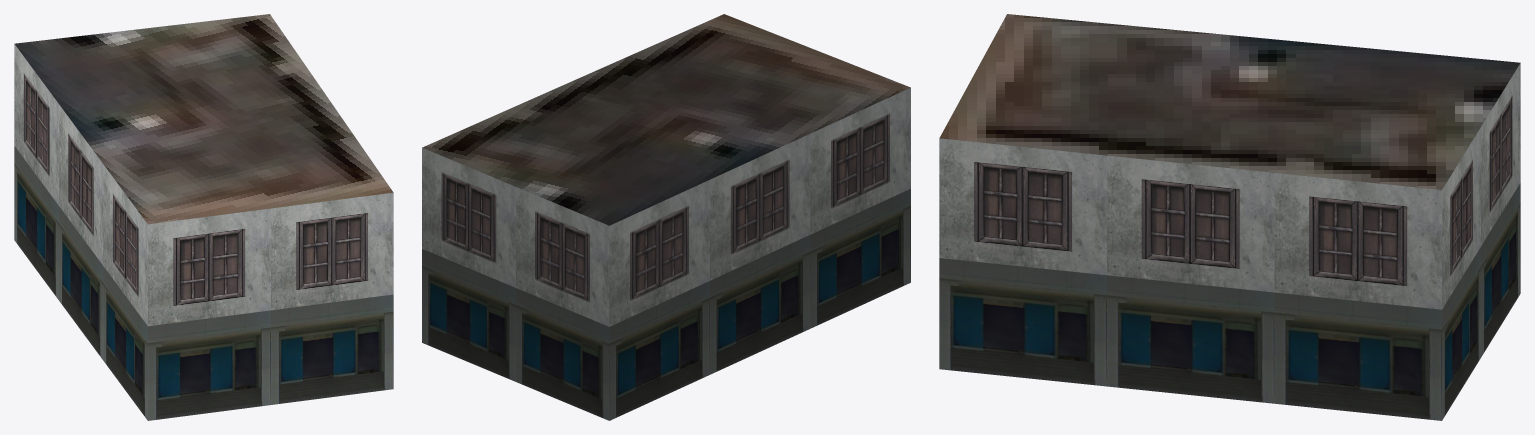
3 views of the same model, side by side, from view 1: azimuth 30°, elevation 25°; view 2: azimuth 150°, elevation 25°; view 3: azimuth 270°, elevation 25° (orthographic). The views are drawn at different scales.
Visible parts, largest first — view 1: SketchUp (×5); view 2: SketchUp (×5); view 3: SketchUp (×5).
Boxes of the visible parts, box(x1,y1,x2,y2) form: SketchUp (×5): box(14, 14, 393, 420); SketchUp (×5): box(422, 14, 910, 420); SketchUp (×5): box(939, 14, 1520, 420).
Bounding box in the file's own units: 11.2 × 15.63 × 6.85.
3 materials, 3 textured.
